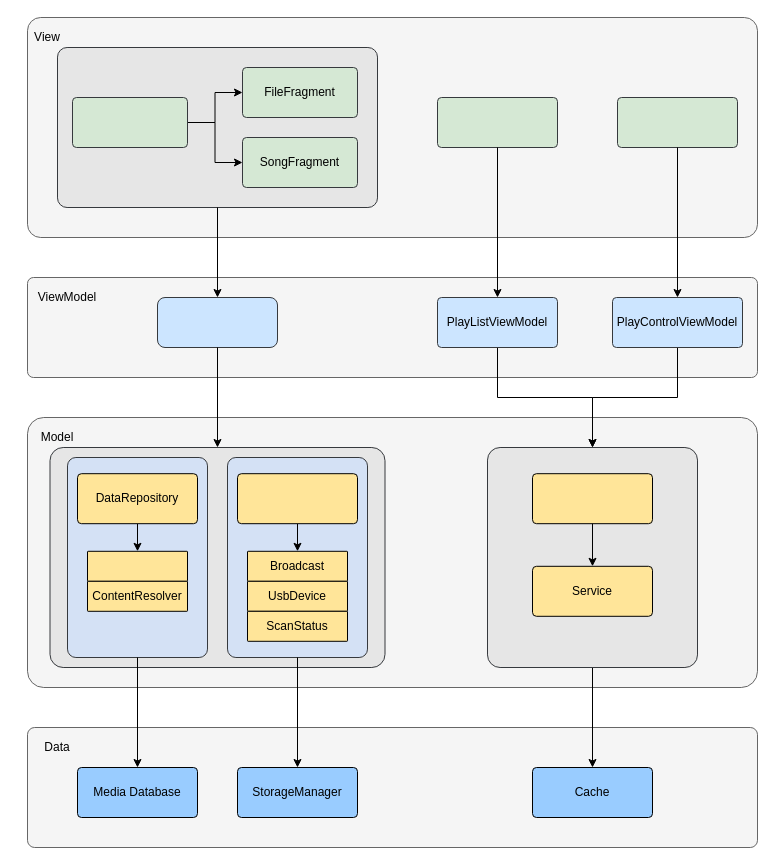
Image size: 775x865. Some labels were removed from this diagram. Each missing label, with the box of its shape:
File: (86, 550, 188, 581)
HomeFragment: (72, 96, 188, 148)
HomeViewModel: (156, 296, 278, 348)
PlayControlFragment: (616, 96, 738, 148)
Player: (532, 473, 652, 524)
PlayListFragment: (436, 96, 558, 148)
UsbManager: (236, 473, 358, 524)
